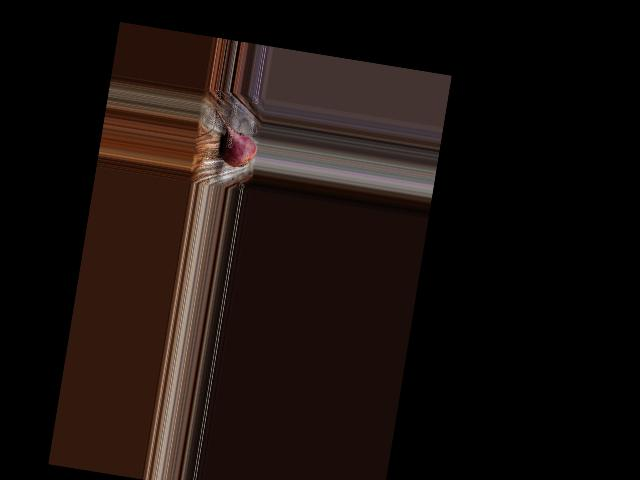beet: (208, 110, 261, 169)
